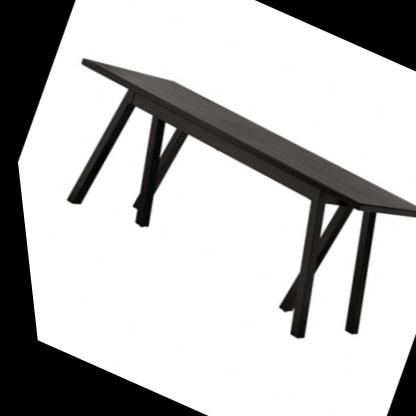Table: (3, 34, 416, 378)
